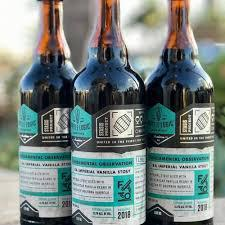beer: (18, 1, 215, 224)
